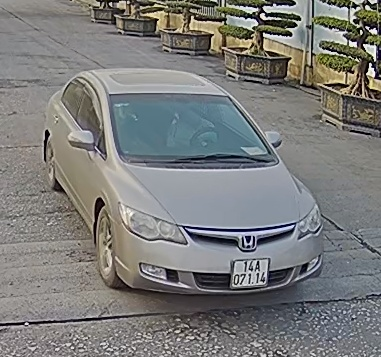vehicle plate: (229, 255, 270, 288)
